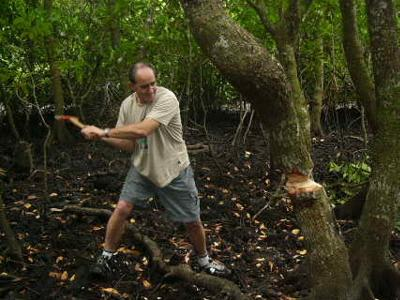person: (80, 62, 235, 278)
